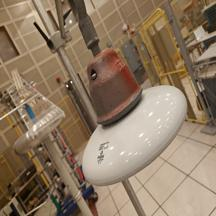insulator: (74, 48, 194, 189)
